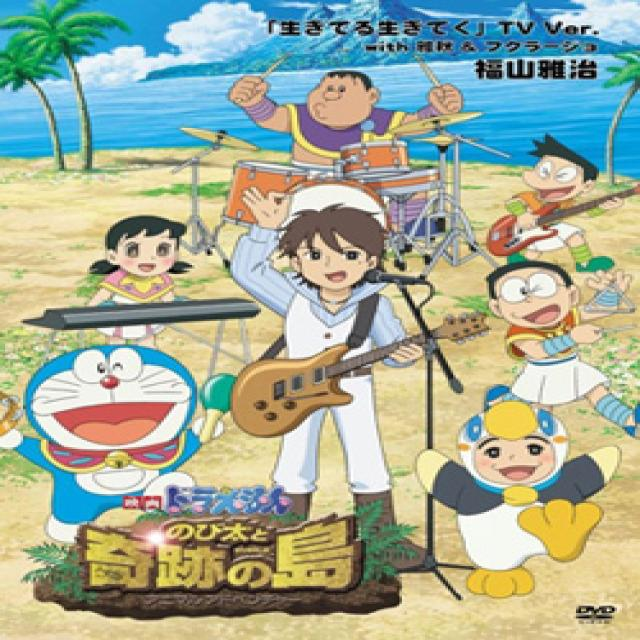doraemon: (11, 337, 226, 490)
jaian: (274, 58, 397, 135)
nobita: (468, 248, 602, 360)
shizuka: (76, 207, 218, 296)
suneo: (500, 126, 614, 216)
